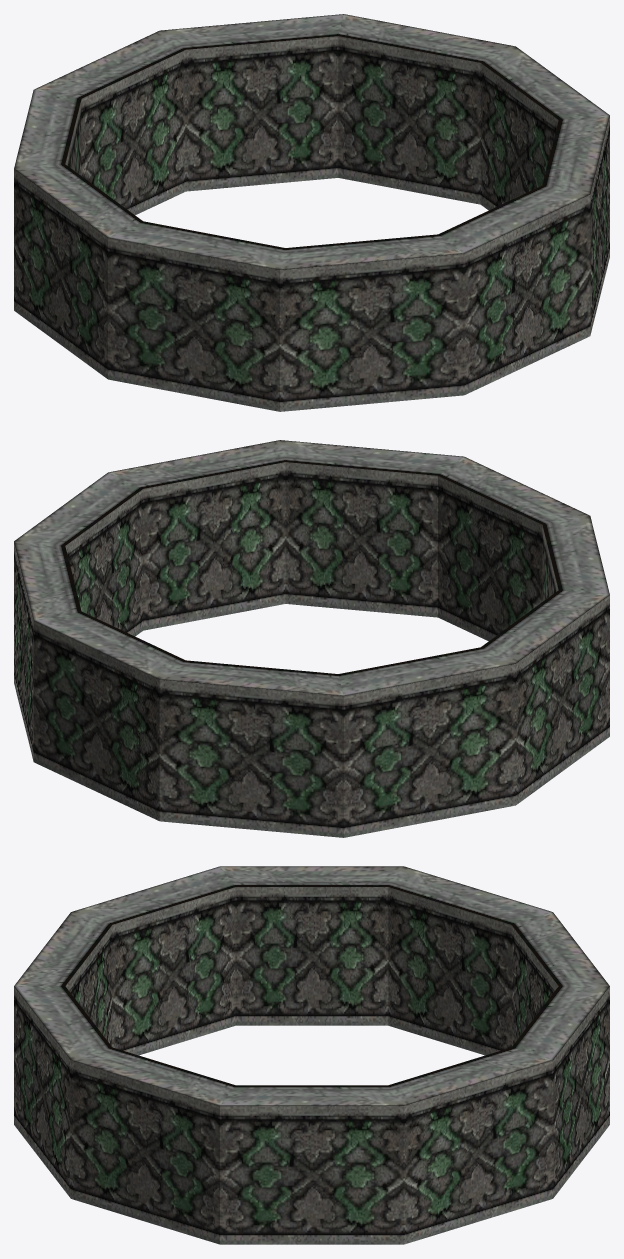
The model's file is ITRI.glb.
3 views of the same model, one above another, from view 1: azimuth 30°, elevation 25°; view 2: azimuth 150°, elevation 25°; view 3: azimuth 270°, elevation 25° (orthographic). The views are drawn at different scales.
Parts seen in each view (by area): view 1: zengin; view 2: zengin; view 3: zengin.
Part boxes in pixels (x1=…): zengin: x1=14, y1=14, x2=609, y2=411; zengin: x1=14, y1=440, x2=609, y2=837; zengin: x1=14, y1=866, x2=609, y2=1244.
Bounding box in the file's own units: 0.0624 × 0.0169 × 0.0657.
1 material, 1 textured.
